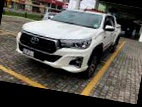car: (10, 0, 123, 83)
